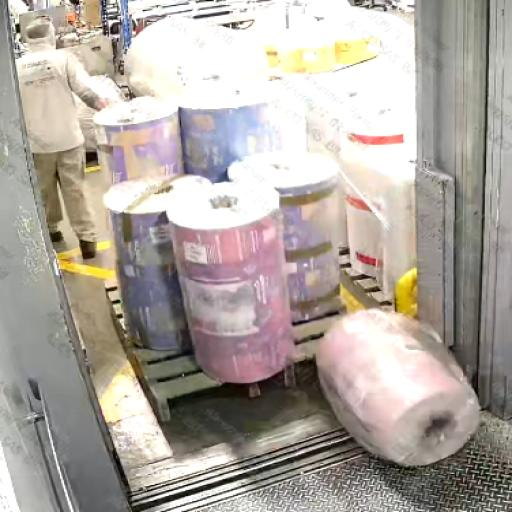rollos caidos: (128, 194, 501, 502)
